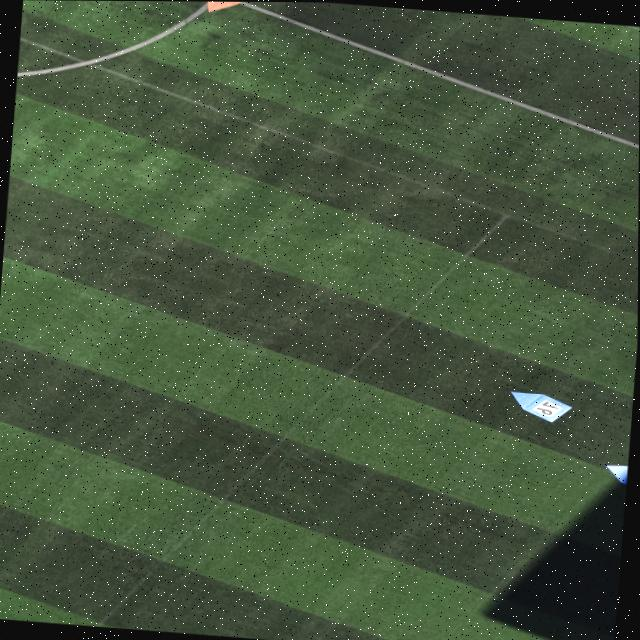board: (509, 389, 573, 422), (604, 463, 628, 483), (205, 1, 240, 12)
